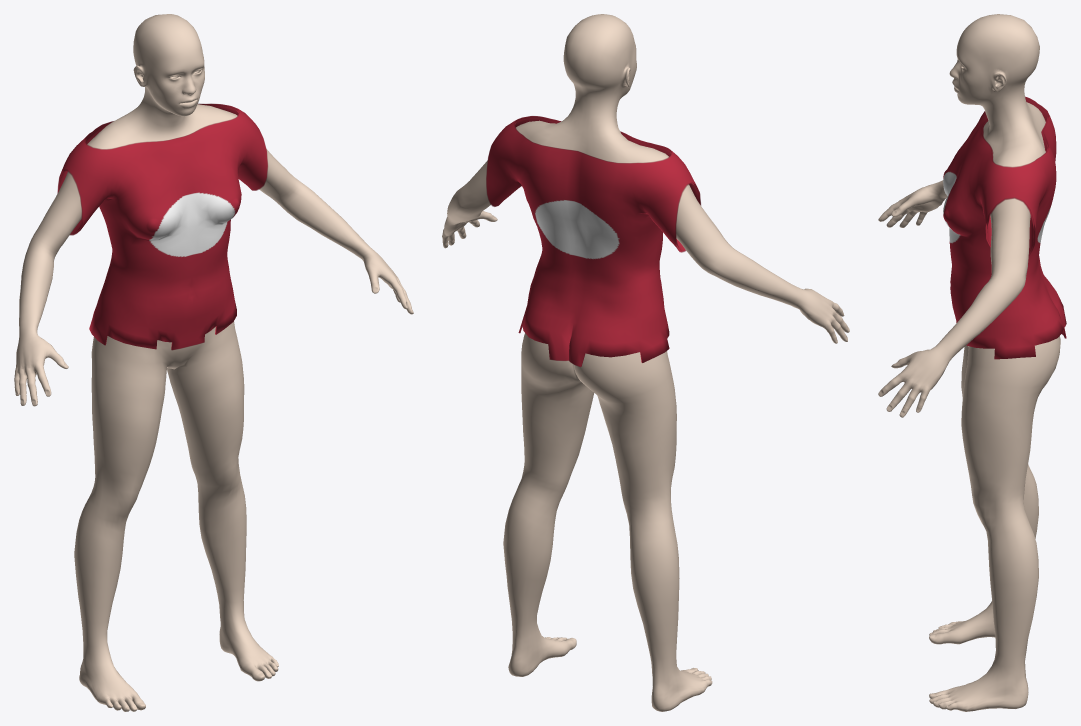
Rendered from last.glb.
3 views of the same model, side by side, from view 1: azimuth 30°, elevation 25°; view 2: azimuth 150°, elevation 25°; view 3: azimuth 270°, elevation 25° (orthographic). The views are drawn at different scales.
Visible parts, largest first — view 1: Human_gen, garment_tshirt; view 2: Human_gen, garment_tshirt; view 3: Human_gen, garment_tshirt.
Boxes of the visible parts, x1=… form: Human_gen: x1=14, y1=14, x2=413, y2=711; garment_tshirt: x1=57, y1=103, x2=267, y2=350; Human_gen: x1=442, y1=14, x2=849, y2=711; garment_tshirt: x1=486, y1=116, x2=700, y2=366; Human_gen: x1=878, y1=14, x2=1060, y2=711; garment_tshirt: x1=943, y1=96, x2=1066, y2=359.
Size of the model in its own units: 1.02 by 1.63 by 0.4255.
Materials: 2 (1 with a texture image).
